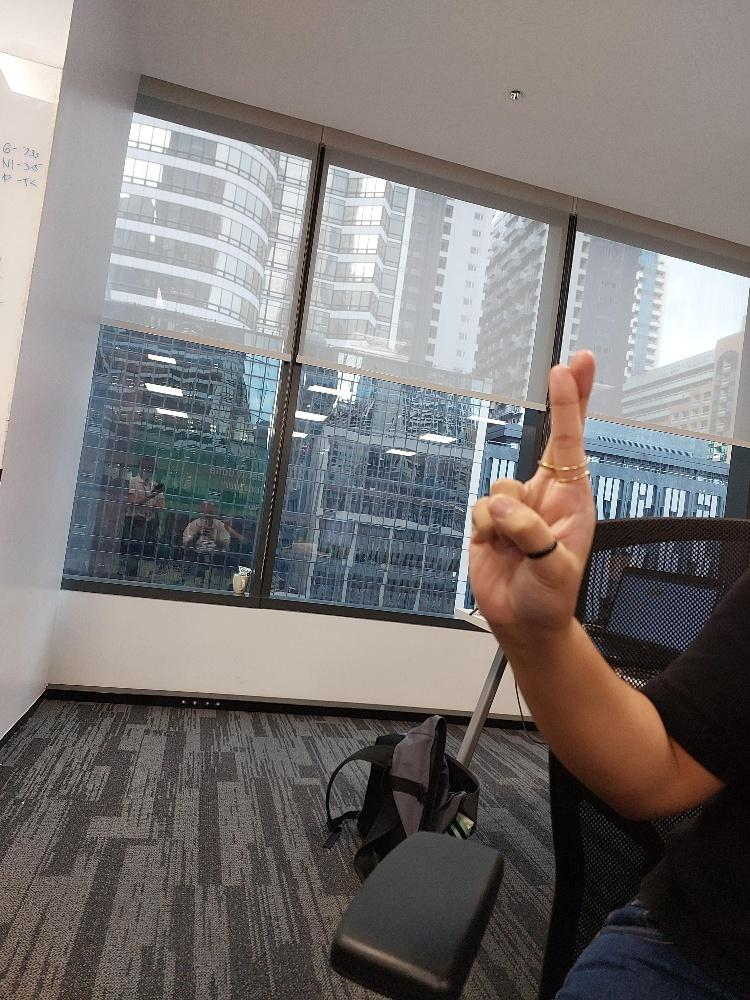r: (464, 345, 599, 635)
